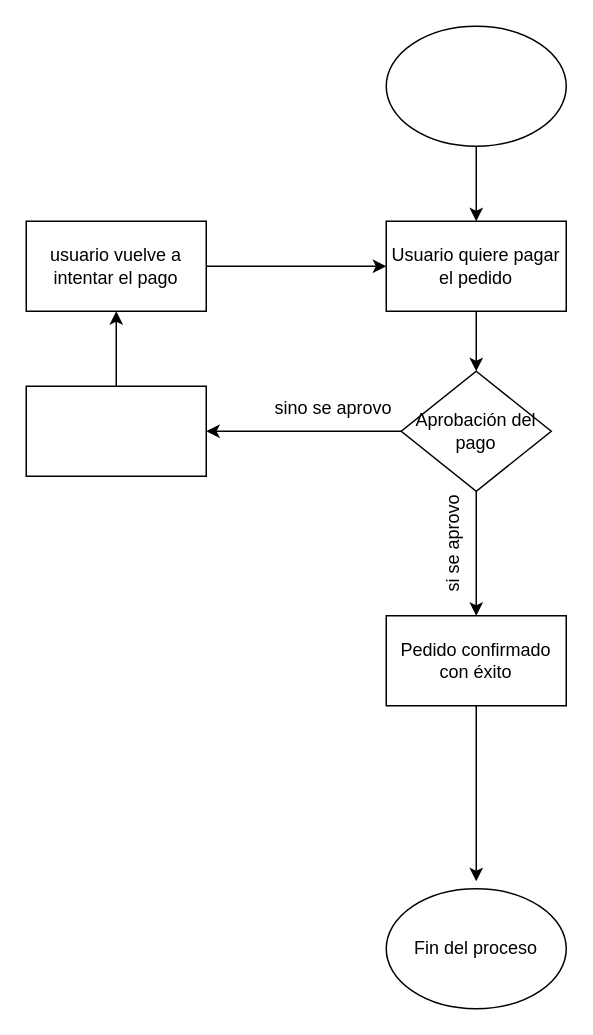
This 593x1035 diagram has some shape labels left out. The box of each missing label's shape, as (x1, y1, x2, y2) in pixels:
Inicio del proceso: (385, 25, 566, 146)
Pedido rechazado: (25, 385, 206, 476)
